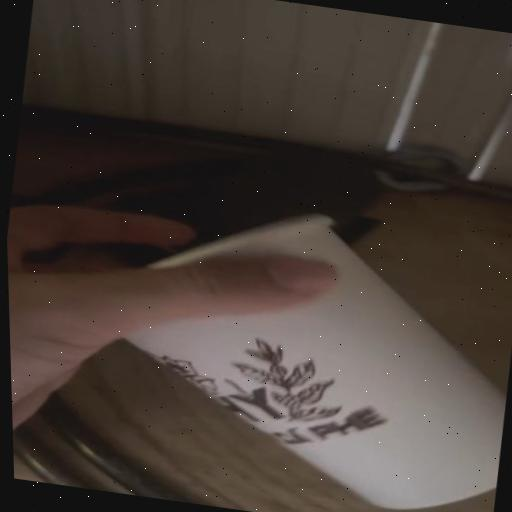ly_giay: (127, 216, 506, 509)
